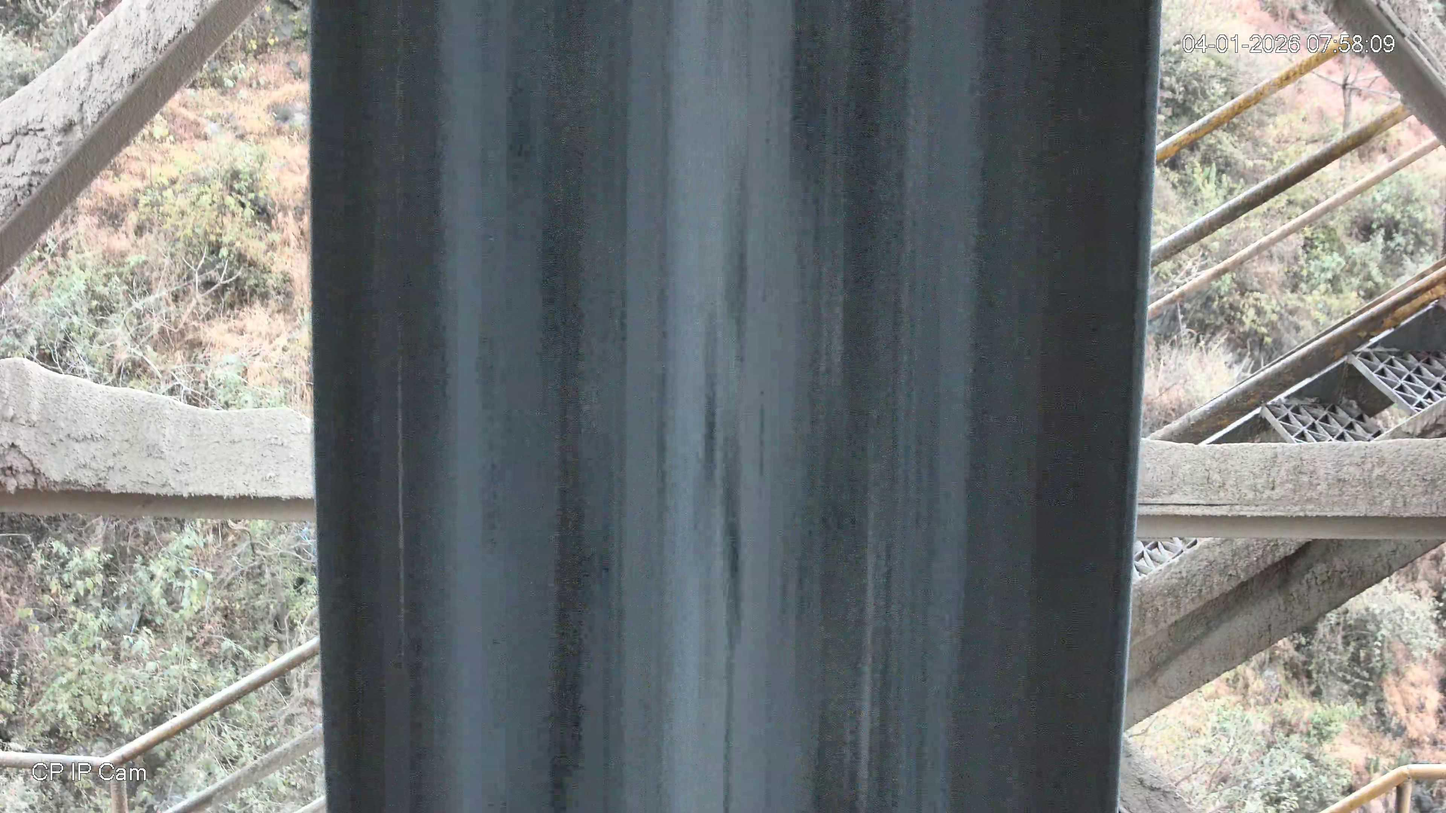belt_roi: (309, 0, 1161, 813)
